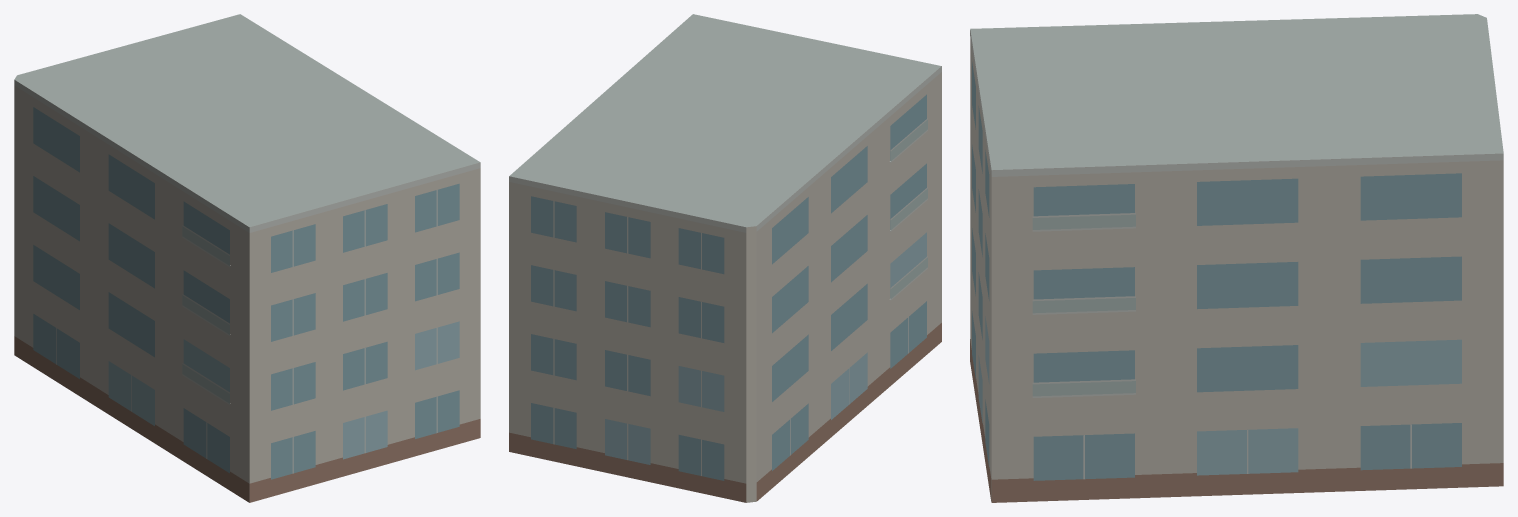
The model's file is survey-upis-32822489.glb.
3 renders of one model, left to right at view 1: azimuth 30°, elevation 25°; view 2: azimuth 150°, elevation 25°; view 3: azimuth 270°, elevation 25°, orthographic. The views are drawn at different scales.
Parts seen in each view (by area): view 1: survey-upis-32822489.tmp; view 2: survey-upis-32822489.tmp; view 3: survey-upis-32822489.tmp.
Boxes of the visible parts, bbox=[...] form: survey-upis-32822489.tmp: bbox=[14, 14, 480, 502]; survey-upis-32822489.tmp: bbox=[509, 14, 941, 502]; survey-upis-32822489.tmp: bbox=[970, 14, 1503, 502].
Bounding box in the file's own units: 11.91 × 11.82 × 17.19.
